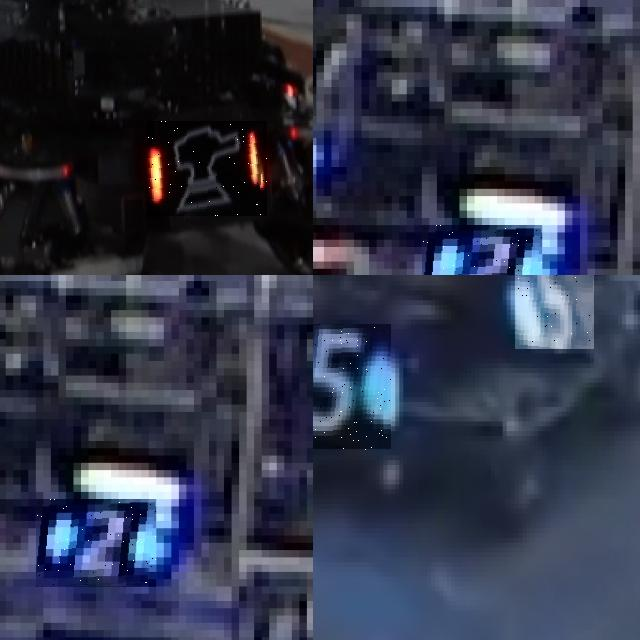B2: (36, 499, 156, 587), (421, 225, 542, 275)
B5: (313, 324, 391, 450), (514, 275, 594, 349)
Rs: (147, 121, 267, 216)
